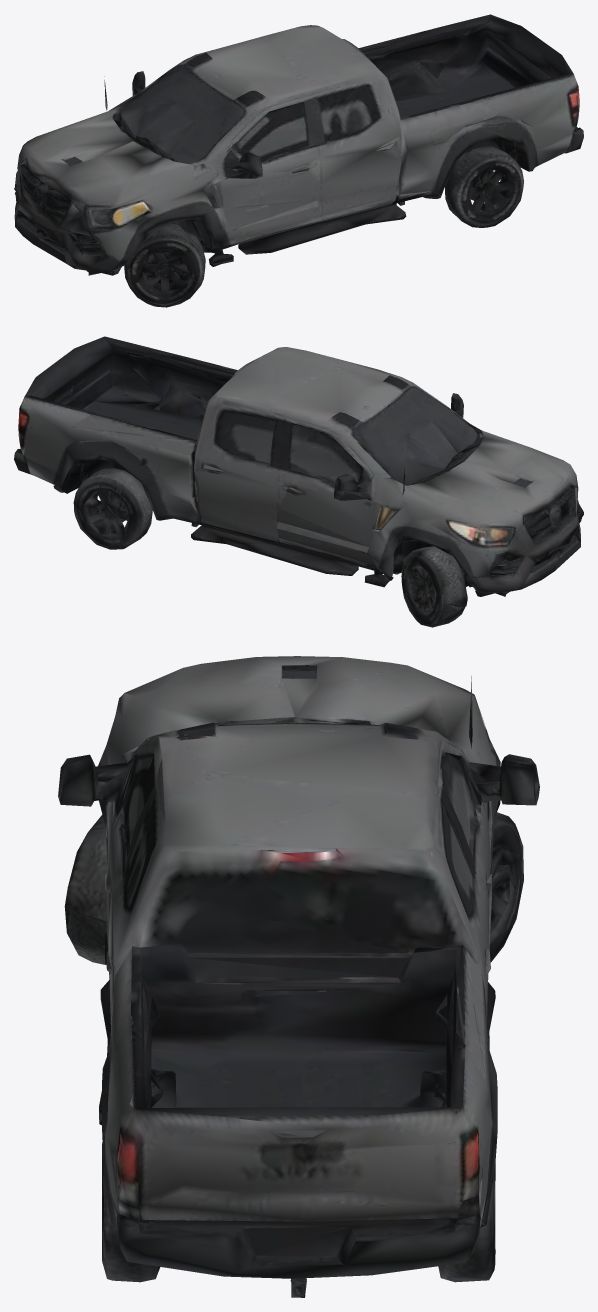
Rendered from pickup-grey.glb.
3 renders of one model, top to bottom at view 1: azimuth 30°, elevation 25°; view 2: azimuth 150°, elevation 25°; view 3: azimuth 270°, elevation 25°, orthographic. The views are drawn at different scales.
Parts seen in each view (by area): view 1: mesh_node; view 2: mesh_node; view 3: mesh_node.
Part boxes in pixels (box(x1,y1,x2,y2)): mesh_node: box(14, 14, 583, 307); mesh_node: box(14, 336, 583, 627); mesh_node: box(58, 656, 539, 1297).
Bounding box in the file's own units: 5.61 × 1.8 × 2.29.
Materials: 1 (1 with a texture image).
